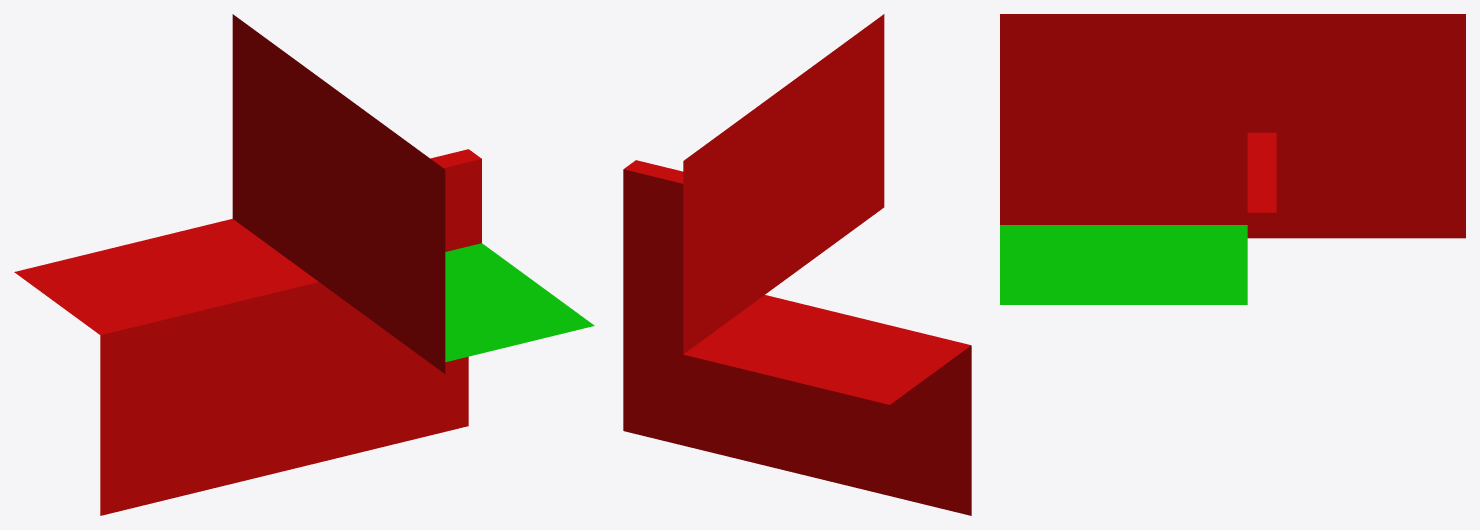
3 renders of one model, left to right at view 1: azimuth 30°, elevation 25°; view 2: azimuth 150°, elevation 25°; view 3: azimuth 270°, elevation 25°, orthographic. The views are drawn at different scales.
Parts seen in each view (by area): view 1: None_E_W_E_E_E_A_A_A_None; view 2: None_E_W_E_E_E_A_A_A_None; view 3: None_E_W_E_E_E_A_A_A_None.
Boxes of the visible parts, <box> form: None_E_W_E_E_E_A_A_A_None: <box>14,14,594,515</box>; None_E_W_E_E_E_A_A_A_None: <box>623,14,971,515</box>; None_E_W_E_E_E_A_A_A_None: <box>1000,14,1465,304</box>.
Size of the model in its own units: 100 by 100 by 100.
